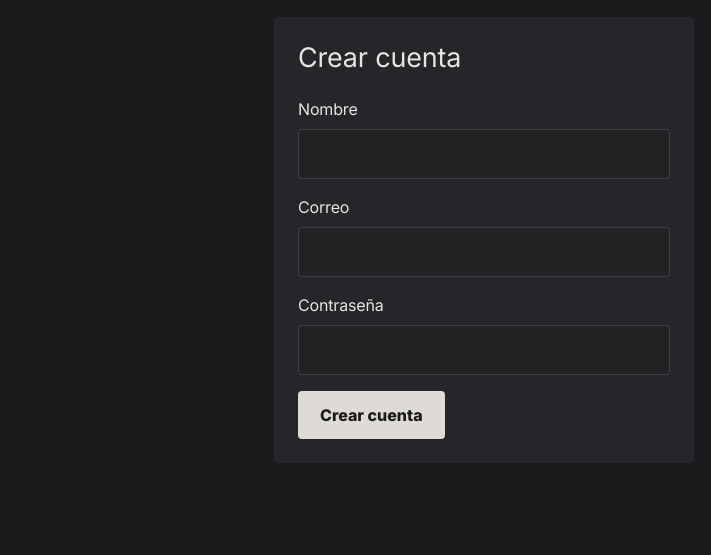
Test: Registro › muestra errores del formulario vacío y luego crea la cuenta como Cliente
Click the button "Crear cuenta". click: [371, 415]
box: [298, 391, 445, 439]
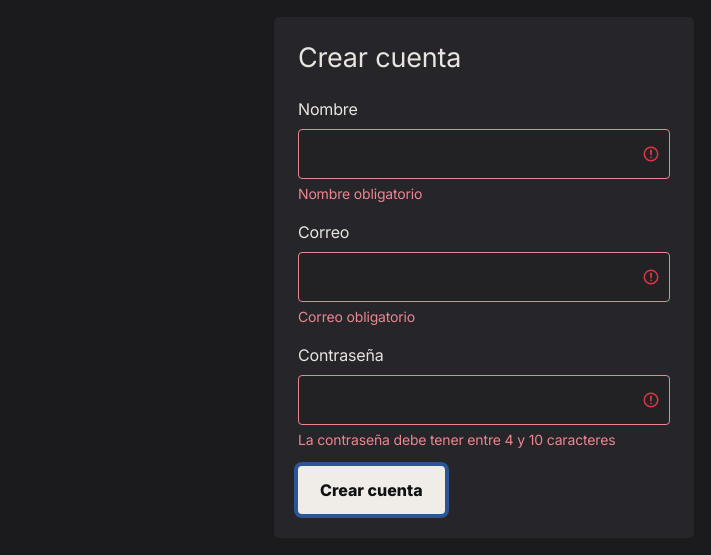
Check: the text "Nombre obligatorio" is shown, box [298, 185, 422, 202]
Type "Ana Soto" into the field labelled "Nombre". click: [484, 154]
box: [298, 129, 670, 179]
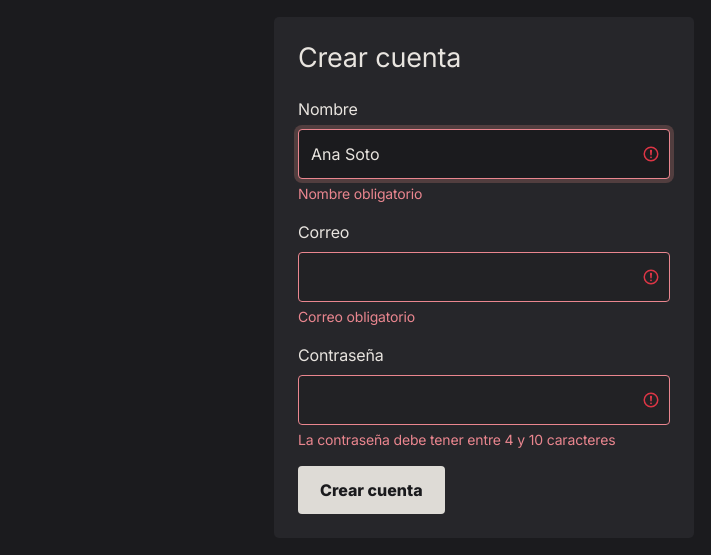
Type "ana@gmail.com" into the field labelled "Correo". click: [484, 277]
box: [298, 252, 670, 302]
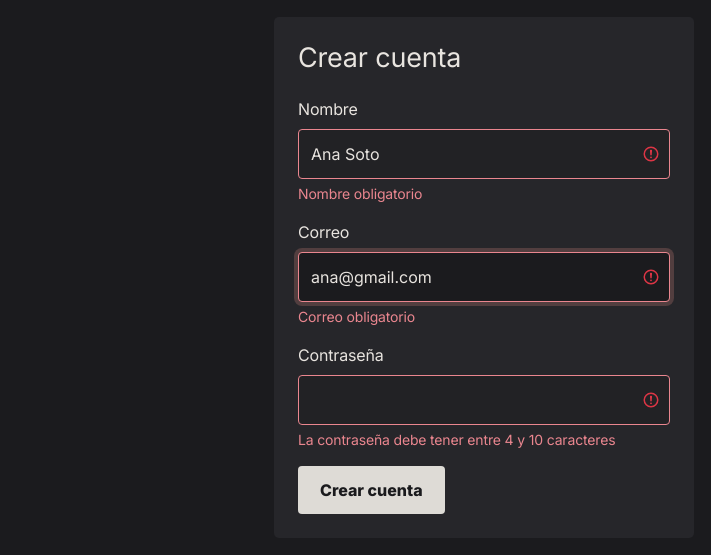
Type "1234" into the password field labelled "Contraseña". click: [484, 400]
box: [298, 375, 670, 425]
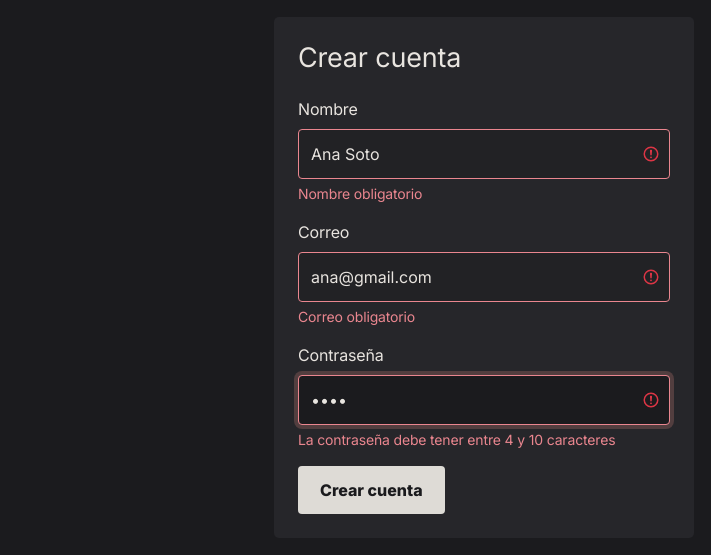
Click the button "Crear cuenta". click: [371, 490]
box: [298, 466, 445, 514]
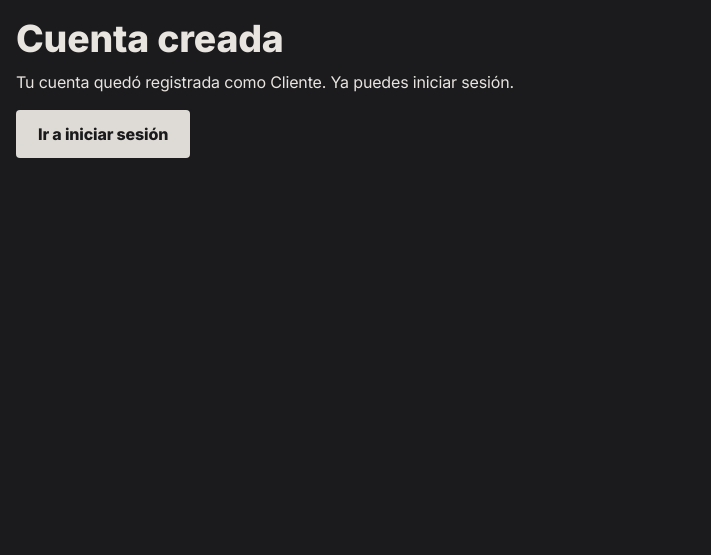
Check: the heading "Cuenta creada" is shown, box [16, 16, 284, 61]
